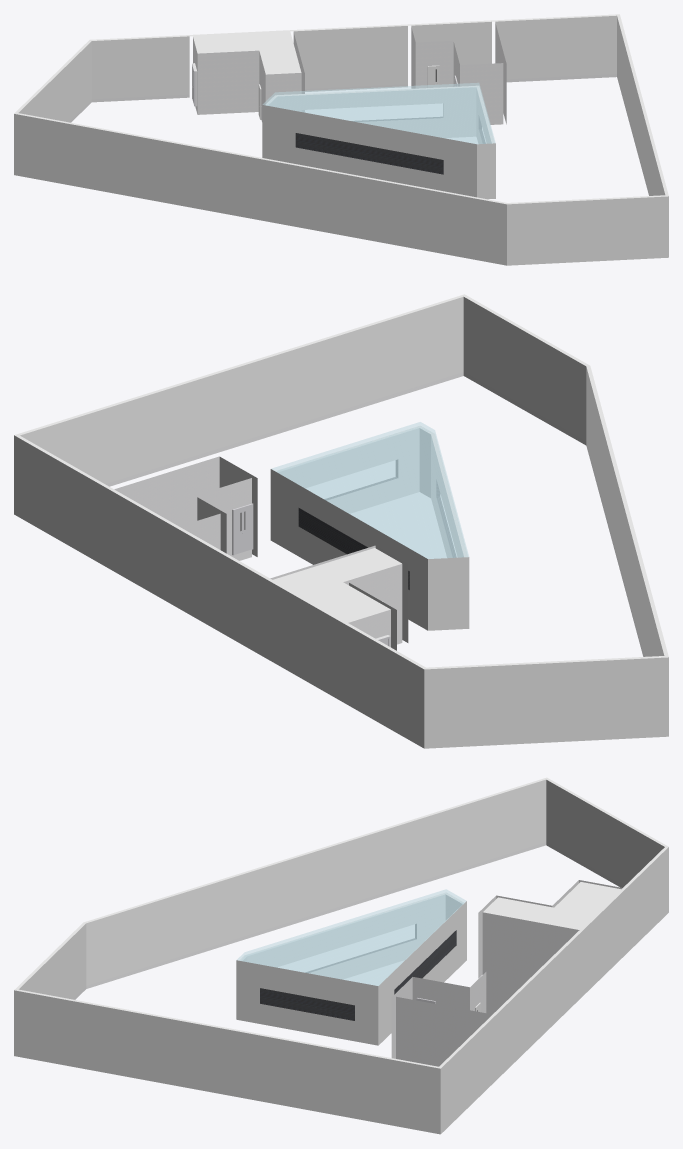
3 views of the same model, one above another, from view 1: azimuth 30°, elevation 25°; view 2: azimuth 150°, elevation 25°; view 3: azimuth 270°, elevation 25° (orthographic). The views are drawn at different scales.
Parts seen in each view (by area): view 1: Mesh1 Group2 __ Group1 Model, Mesh25 __ Group1 Model, Mesh26 __ Group1 Model; view 2: Mesh1 Group2 __ Group1 Model, Mesh25 __ Group1 Model, Mesh27 __ Group1 Model; view 3: Mesh1 Group2 __ Group1 Model, Mesh25 __ Group1 Model, Mesh28 __ Group1 Model, Mesh27 __ Group1 Model.
Boxes of the visible parts, x1,y1,x2,y2 form: Mesh1 Group2 __ Group1 Model: (14,14,668,265); Mesh25 __ Group1 Model: (262,82,495,147); Mesh26 __ Group1 Model: (295,133,443,174); Mesh1 Group2 __ Group1 Model: (14,294,668,748); Mesh25 __ Group1 Model: (270,422,469,562); Mesh27 __ Group1 Model: (298,508,409,589); Mesh1 Group2 __ Group1 Model: (14,777,668,1134); Mesh25 __ Group1 Model: (236,889,466,989); Mesh28 __ Group1 Model: (260,988,354,1020); Mesh27 __ Group1 Model: (394,930,456,994).
Bounding box in the file's own units: 39.87 × 4.2 × 37.9.
7 materials, 4 textured.
